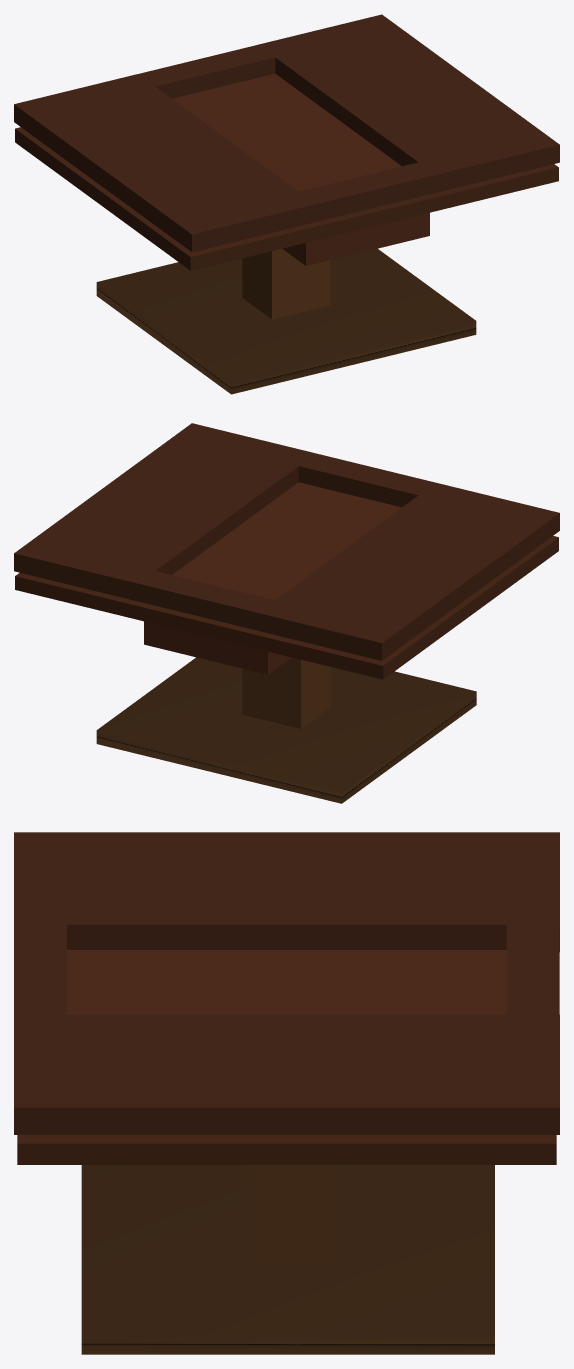
File: Table.glb
The picture shows the model from 3 angles, top to bottom: view 1: azimuth 30°, elevation 25°; view 2: azimuth 150°, elevation 25°; view 3: azimuth 270°, elevation 25°; orthographic projection. The views are drawn at different scales.
Parts seen in each view (by area): view 1: Cube.007, Cube.003, Cube.004, Cube.002, Cube.001, Cube, Cube.006, Cube.005; view 2: Cube.007, Cube.003, Cube.004, Cube.002, Cube.001, Cube, Cube.005, Cube.006; view 3: Cube.007, Cube.004, Cube.003, Cube.002, Cube.001, Cube, Cube.005, Cube.006.
Boxes of the visible parts, box(x1,y1,x2,y2) form: Cube.007: box(96, 248, 476, 394); Cube.003: box(14, 74, 315, 252); Cube.004: box(258, 14, 559, 192); Cube.002: box(172, 73, 429, 265); Cube.001: box(15, 127, 558, 270); Cube: box(242, 249, 330, 319); Cube.006: box(289, 158, 451, 221); Cube.005: box(122, 41, 291, 98); Cube.007: box(96, 657, 476, 803); Cube.003: box(258, 482, 559, 660); Cube.004: box(14, 423, 315, 601); Cube.002: box(144, 482, 401, 674); Cube.001: box(15, 536, 558, 679); Cube: box(242, 657, 330, 728); Cube.005: box(138, 571, 292, 630); Cube.006: box(290, 450, 435, 507); Cube.007: box(81, 1165, 494, 1354); Cube.004: box(14, 1014, 559, 1134); Cube.003: box(14, 832, 559, 951); Cube.002: box(67, 950, 506, 1014); Cube.001: box(17, 1135, 556, 1164); Cube: box(242, 1165, 334, 1263); Cube.005: box(506, 925, 559, 1027); Cube.006: box(14, 925, 66, 1027).
Bounding box in the file's own units: 4.73 × 2.35 × 3.96.
